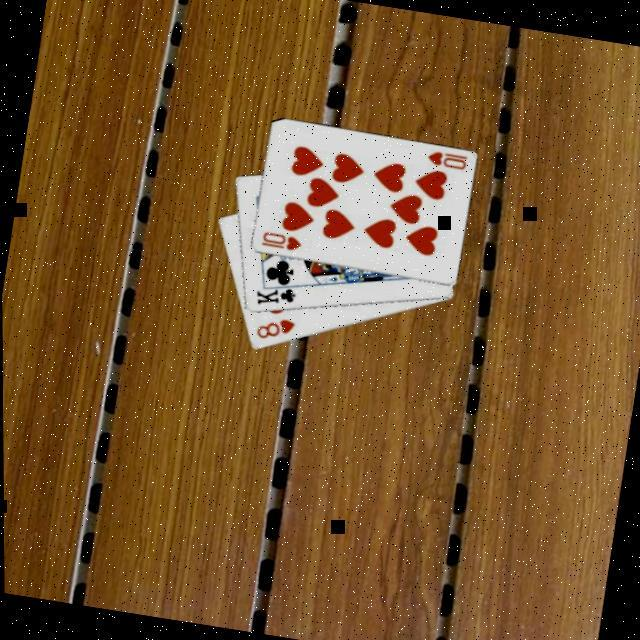10H: (256, 227, 304, 254), (422, 146, 469, 173)
8H: (251, 310, 297, 344)
KC: (250, 274, 300, 312)
